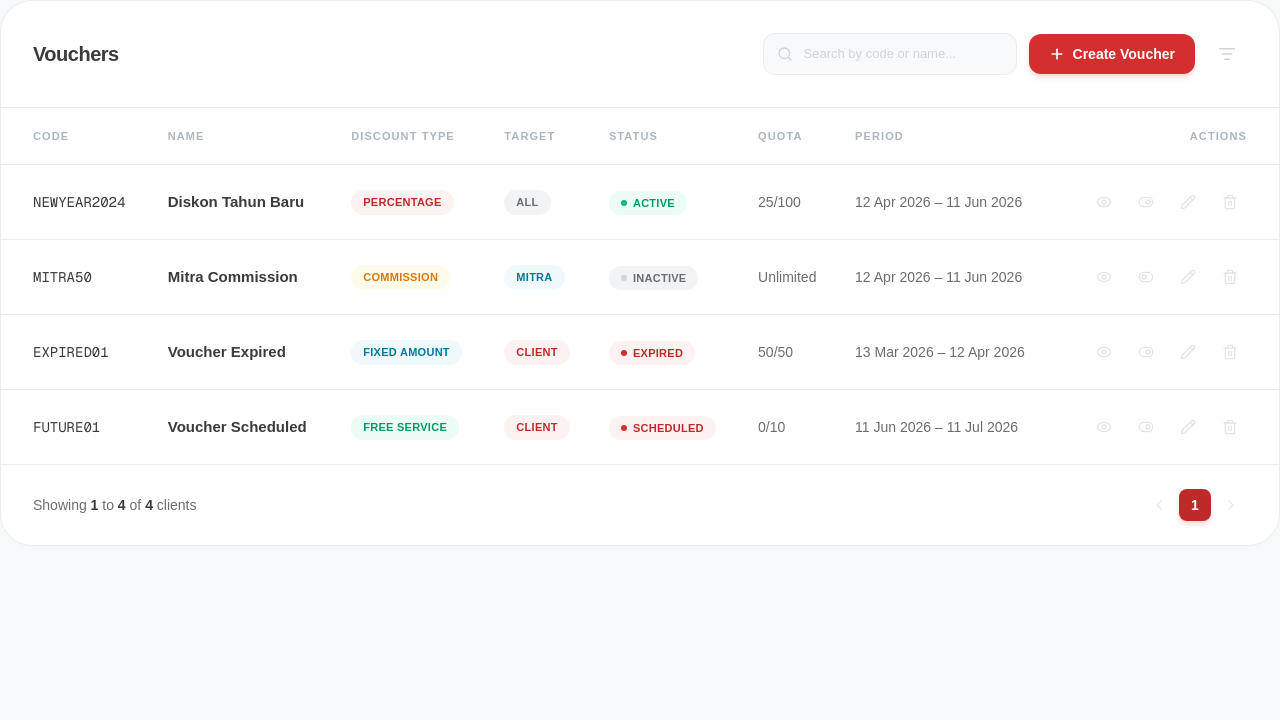
Test: VouchersPage › filter functionality › opens filter popup when filter button is clicked
The image size is (1280, 720).
Expected: the text "Diskon Tahun Baru" is shown, 168,190 -> 319,214
Click the button named "Filter" at (1227, 54), box 1207,34 -> 1247,74
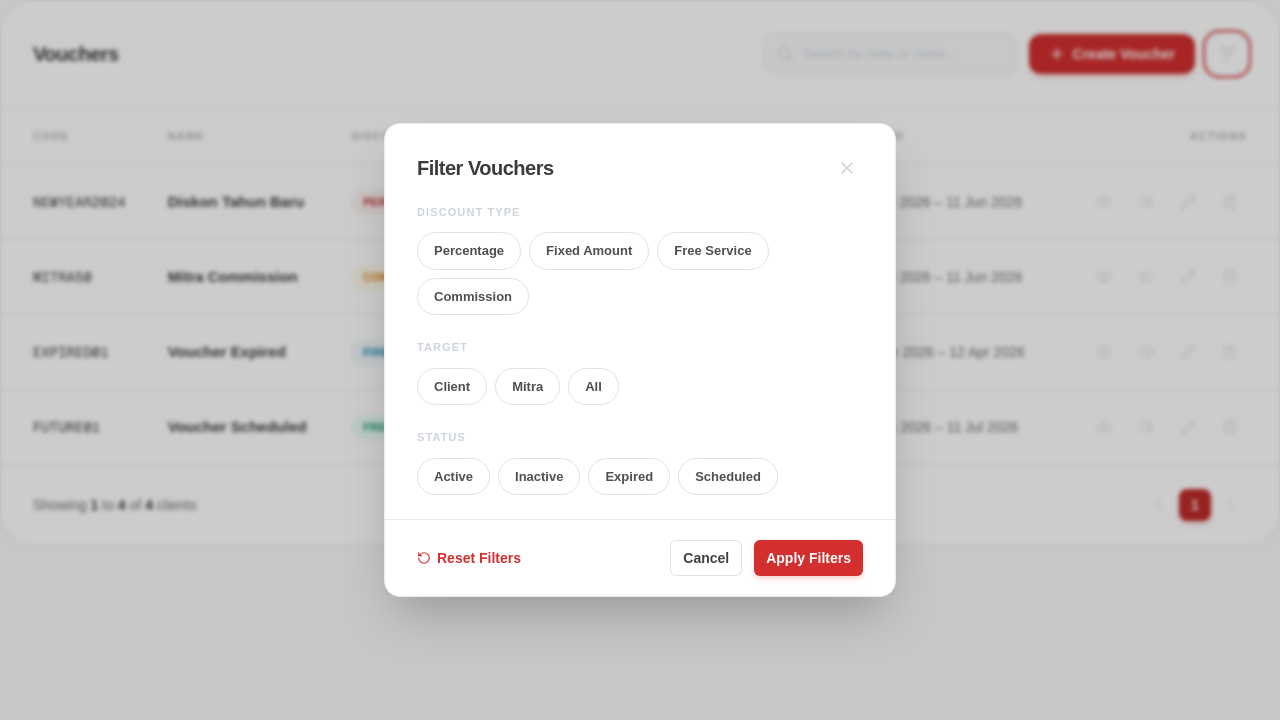
Now the heading "Filter Vouchers" is shown, box 417,154 -> 554,182
